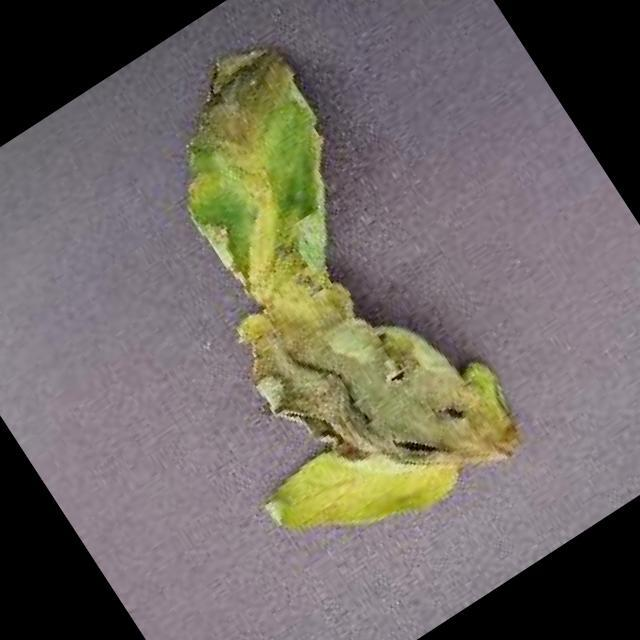Tomato late blight leaf: (36, 19, 542, 592)
